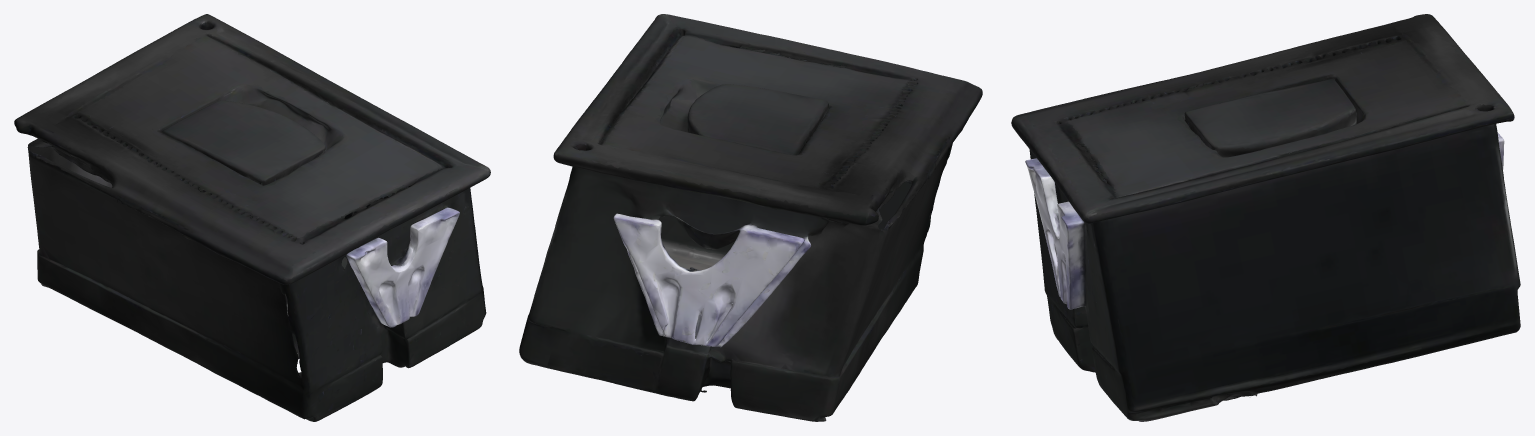
File: receipt-printer-web.glb
The picture shows the model from 3 angles, left to right: view 1: azimuth 30°, elevation 25°; view 2: azimuth 150°, elevation 25°; view 3: azimuth 270°, elevation 25°; orthographic projection. The views are drawn at different scales.
Visible parts, largest first — view 1: world; view 2: world; view 3: world.
Boxes of the visible parts, x1,y1,x2,y2 form: world: [14, 14, 490, 421]; world: [519, 14, 982, 421]; world: [1011, 14, 1520, 421].
Bounding box in the file's own units: 0.8922 × 0.6048 × 1.
Materials: 1 (1 with a texture image).
